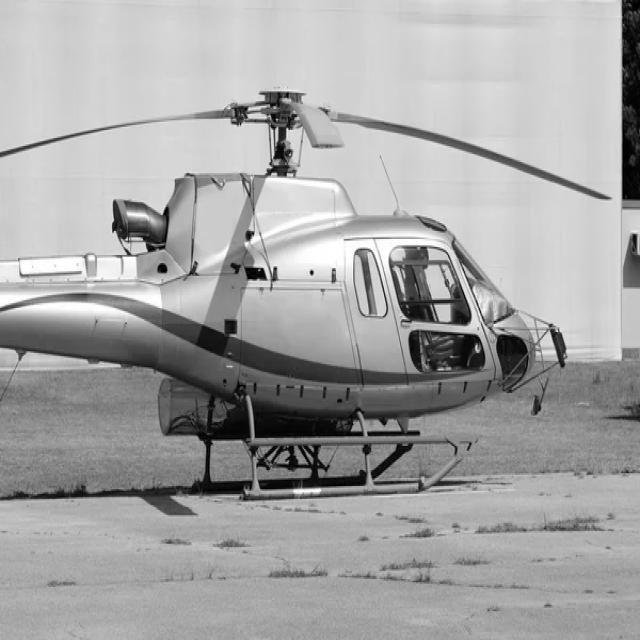Helicopter: (0, 87, 609, 500)
